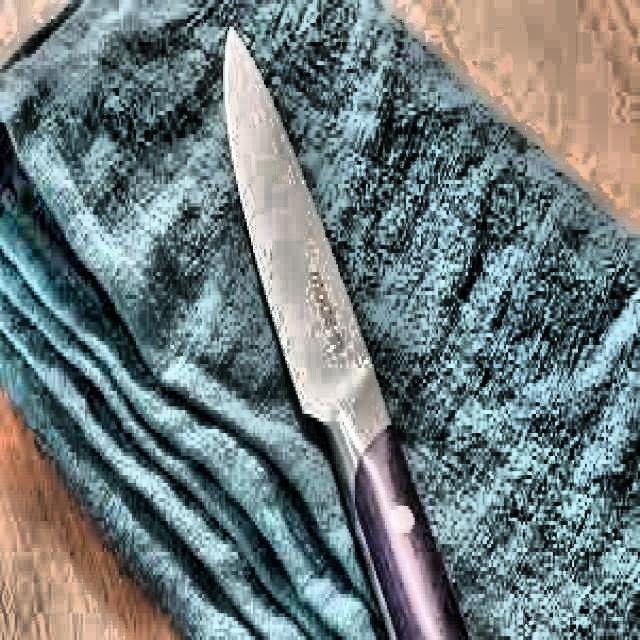knife: (222, 13, 473, 640)
